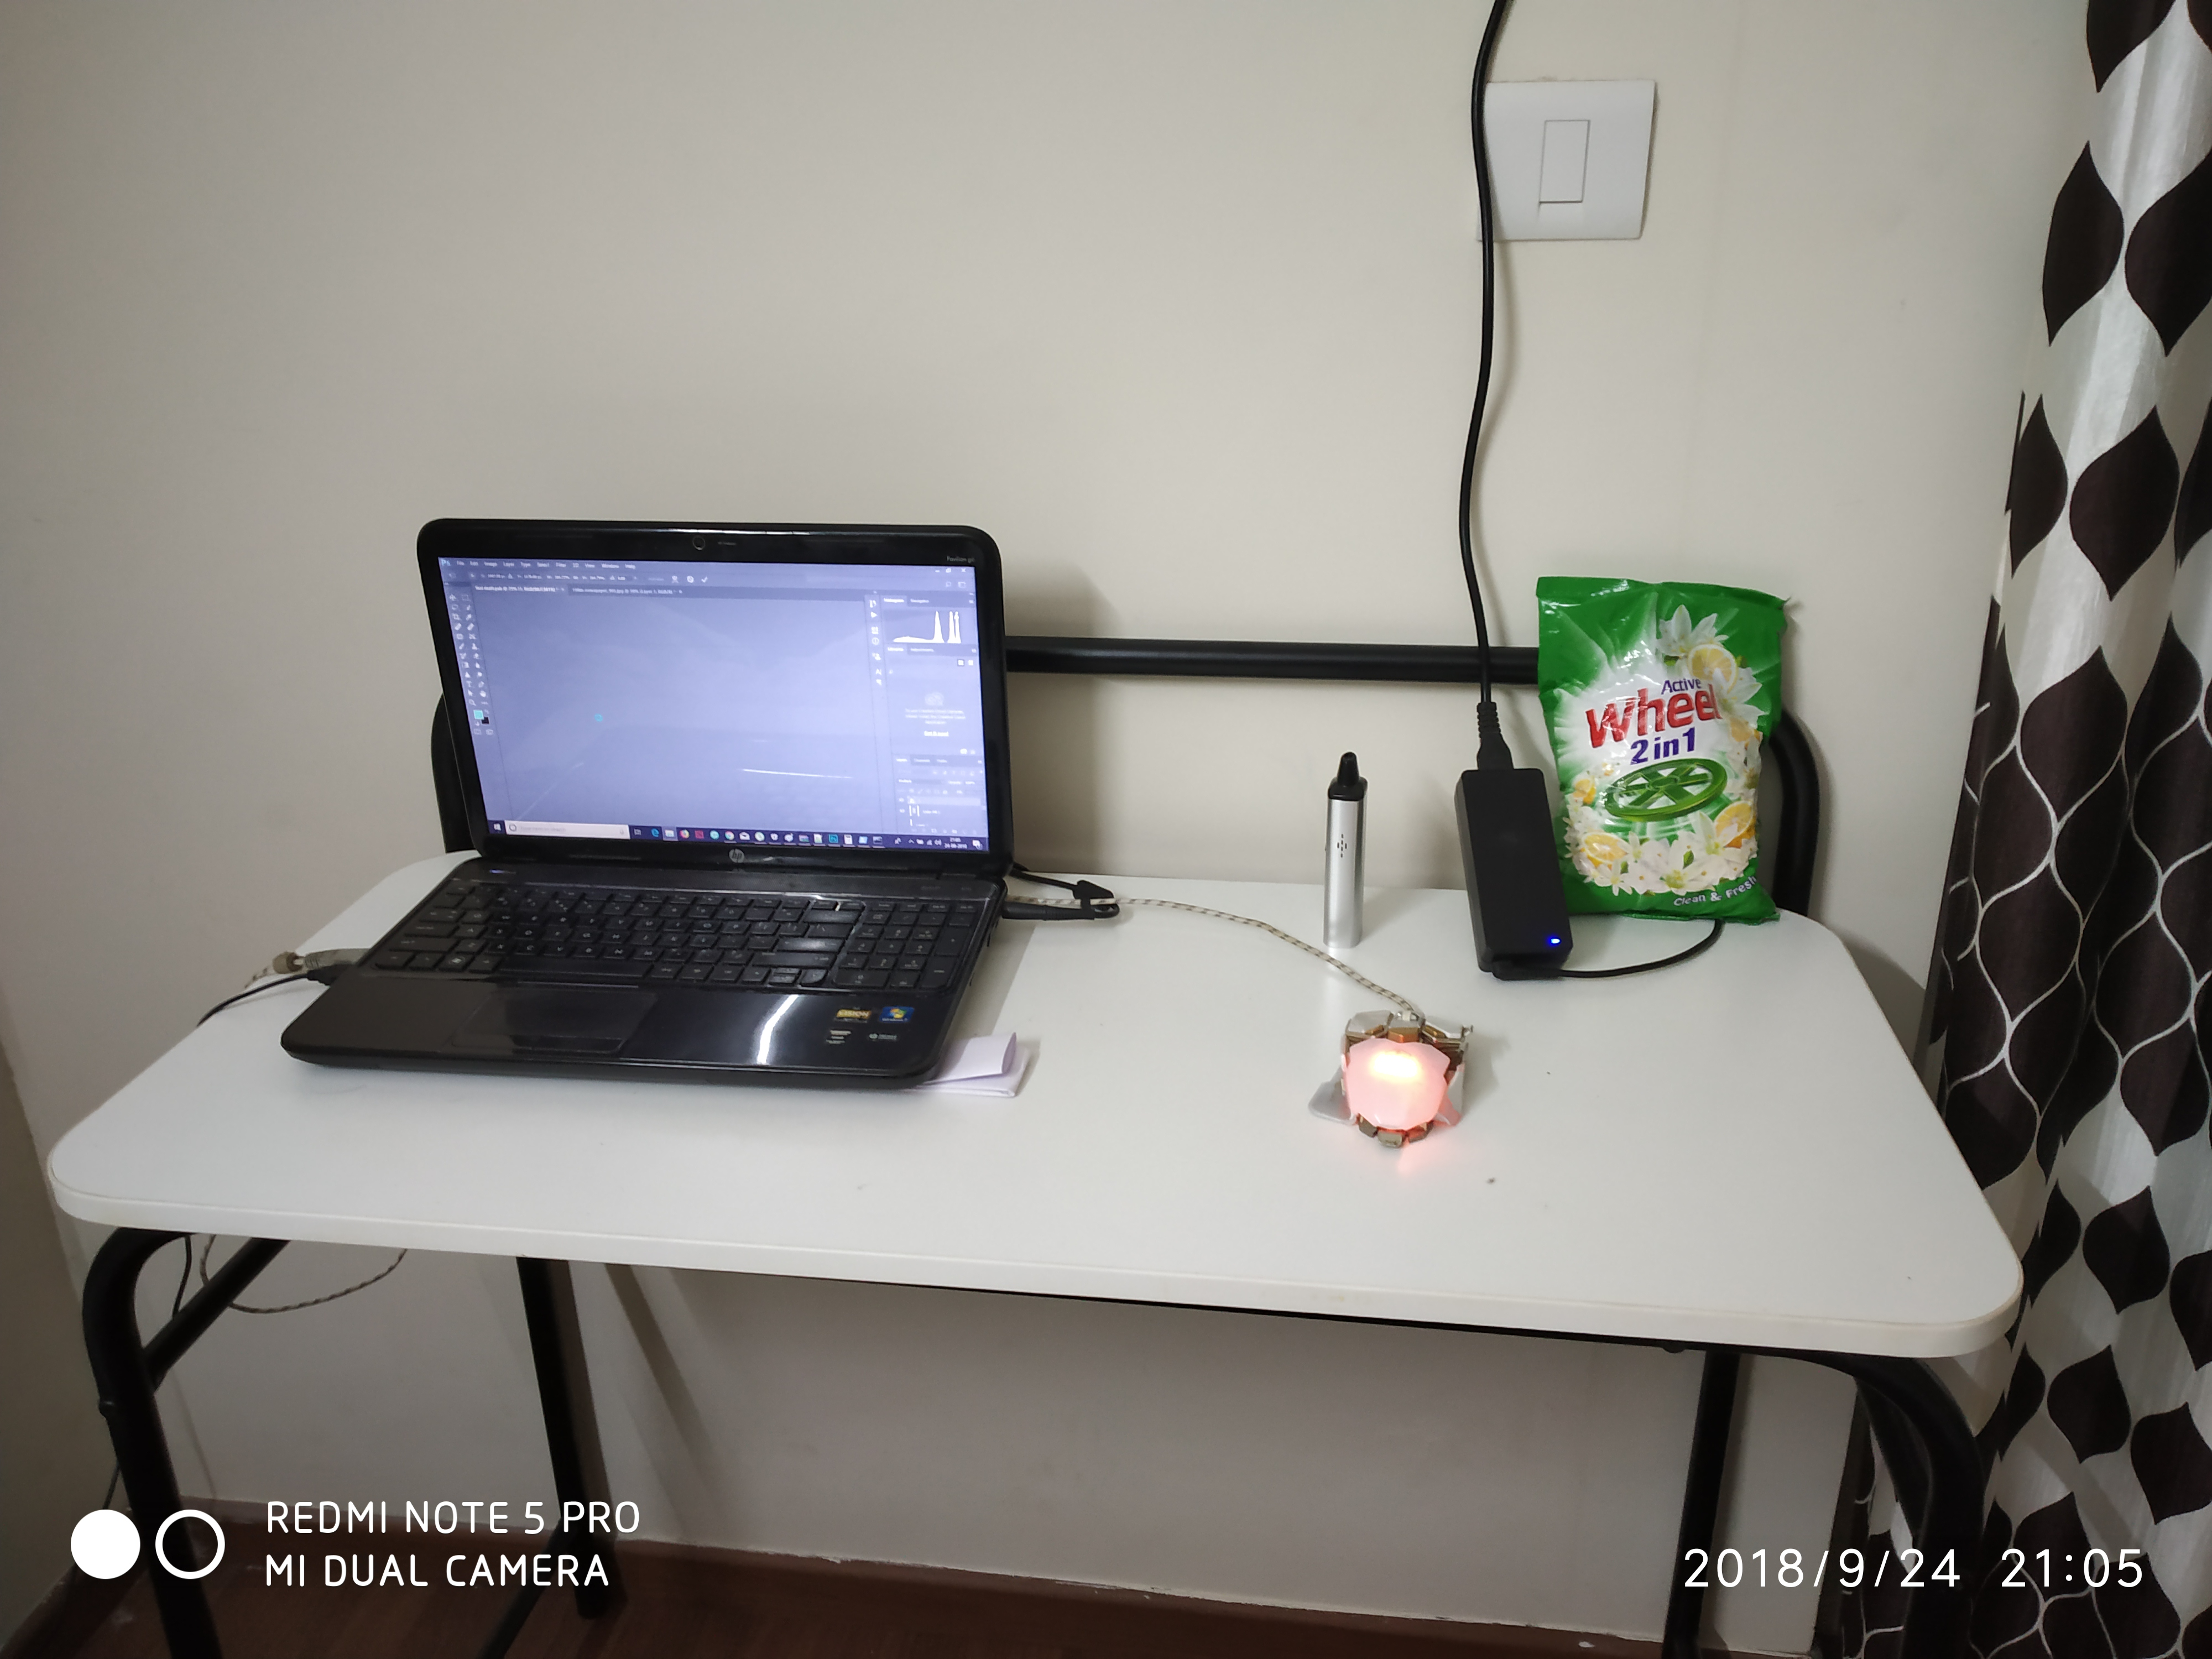detergent: (1535, 575, 1791, 922)
